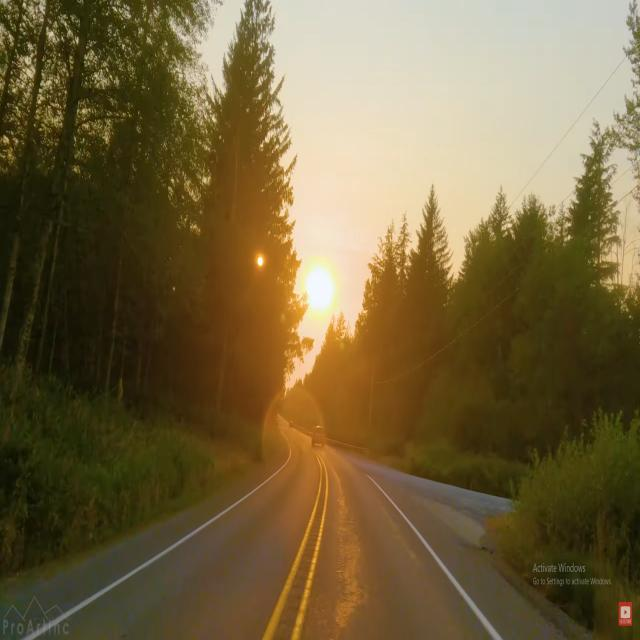sun: (301, 244, 342, 326)
